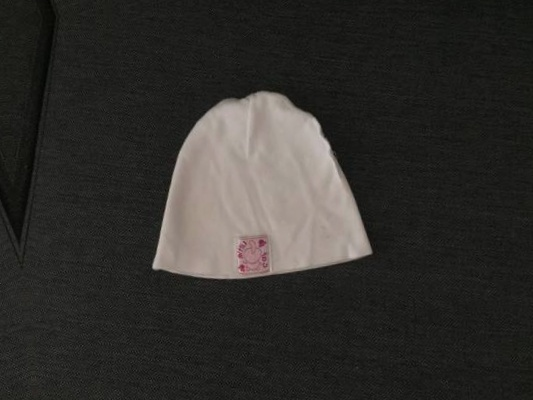Hat: (122, 49, 375, 302)
